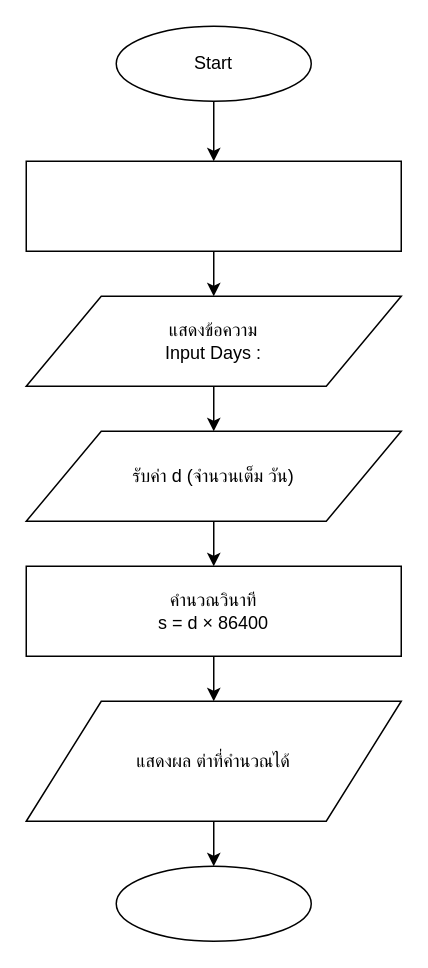
This 428x968 diagram has some shape labels left out. Here are the shapes that lost their labels. From the top down, the box of each, then its label:
(25, 160, 401, 251): ประกาศตัวแปร d, s (จำนวนเต็ม)
(115, 865, 311, 941): Stop
